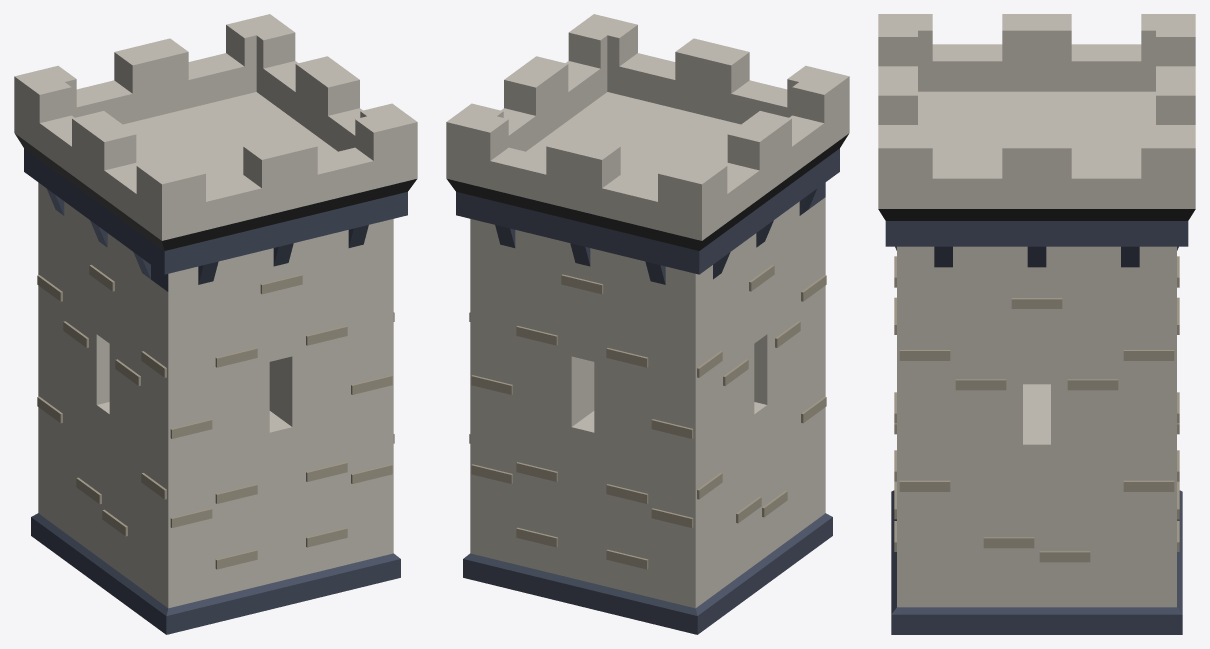
The model's file is Rampart_DefensiveTower_01.fbx.
The picture shows the model from 3 angles, left to right: view 1: azimuth 30°, elevation 25°; view 2: azimuth 150°, elevation 25°; view 3: azimuth 270°, elevation 25°; orthographic projection. The views are drawn at different scales.
Visible parts, largest first — view 1: Rampart_DefensiveTower_01; view 2: Rampart_DefensiveTower_01; view 3: Rampart_DefensiveTower_01.
Boxes of the visible parts, <box> form: Rampart_DefensiveTower_01: <box>14,14,417,634</box>; Rampart_DefensiveTower_01: <box>446,14,849,634</box>; Rampart_DefensiveTower_01: <box>878,14,1195,634</box>.
Size of the model in its own units: 567 by 970 by 567.
Materials: 1 (1 with a texture image).
